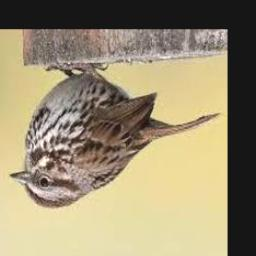Sparrow: (10, 62, 220, 208)
